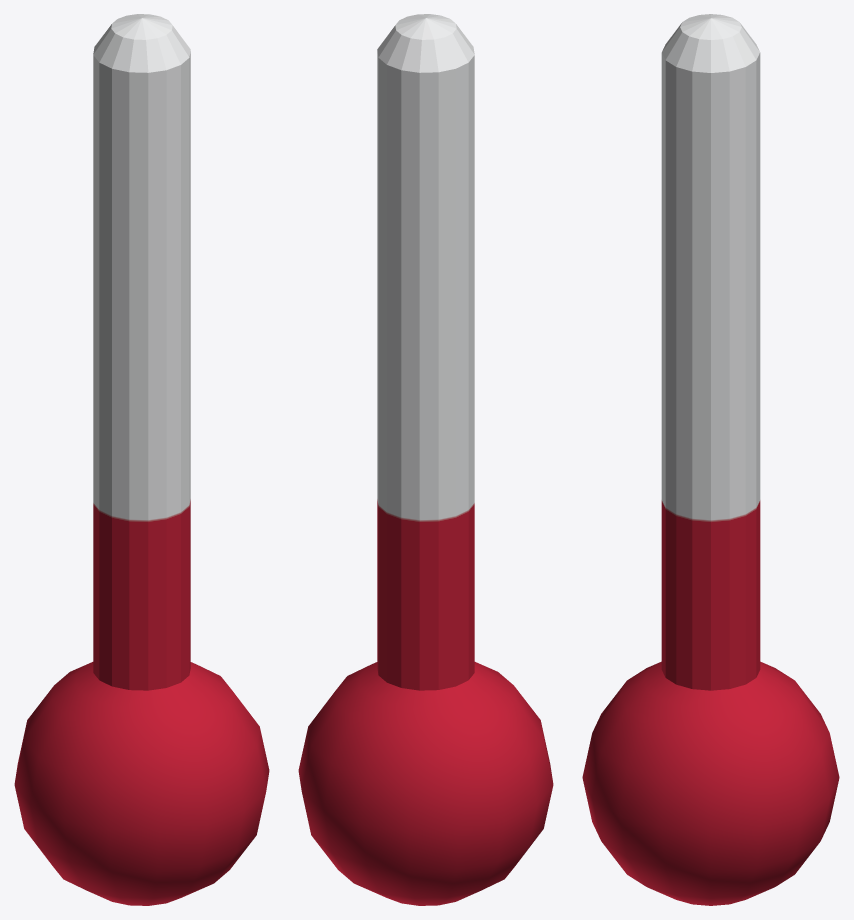
The model's file is termometro.FBX.
The picture shows the model from 3 angles, left to right: view 1: azimuth 30°, elevation 25°; view 2: azimuth 150°, elevation 25°; view 3: azimuth 270°, elevation 25°; orthographic projection.
Parts seen in each view (by area): view 1: Termometro; view 2: Termometro; view 3: Termometro.
Part boxes in pixels (bbox=[...]): Termometro: bbox=[14, 14, 269, 905]; Termometro: bbox=[298, 14, 553, 905]; Termometro: bbox=[582, 14, 839, 905].
Bounding box in the file's own units: 1.76 × 6.63 × 1.76.
